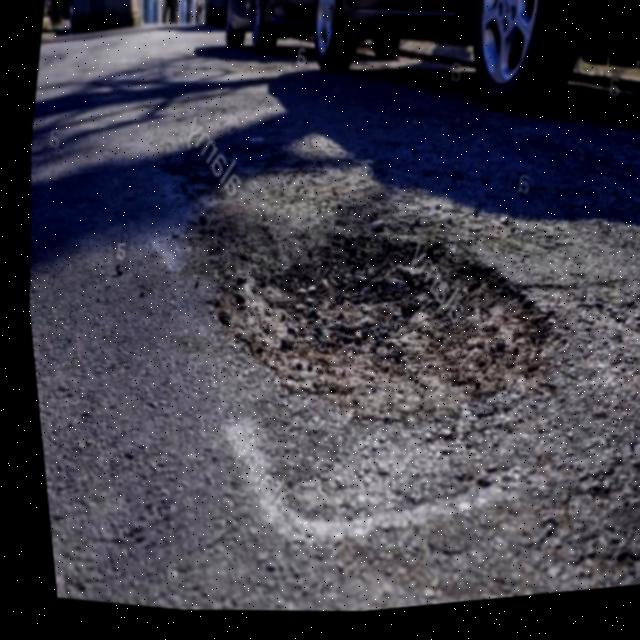Pothole: (185, 145, 589, 462)
